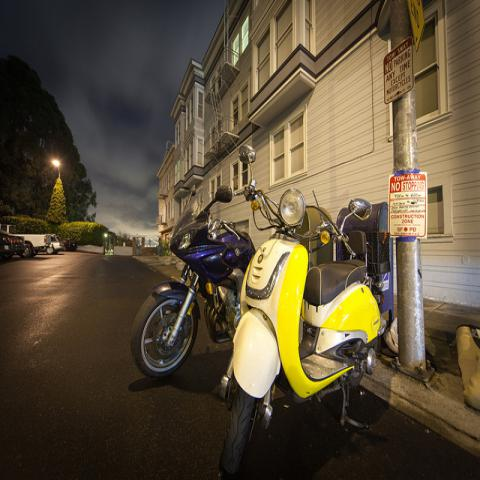car: (0, 231, 25, 264), (46, 236, 64, 254), (63, 238, 77, 250)
motorcycle: (216, 141, 394, 479), (132, 179, 253, 384)
truck: (0, 221, 52, 258)
